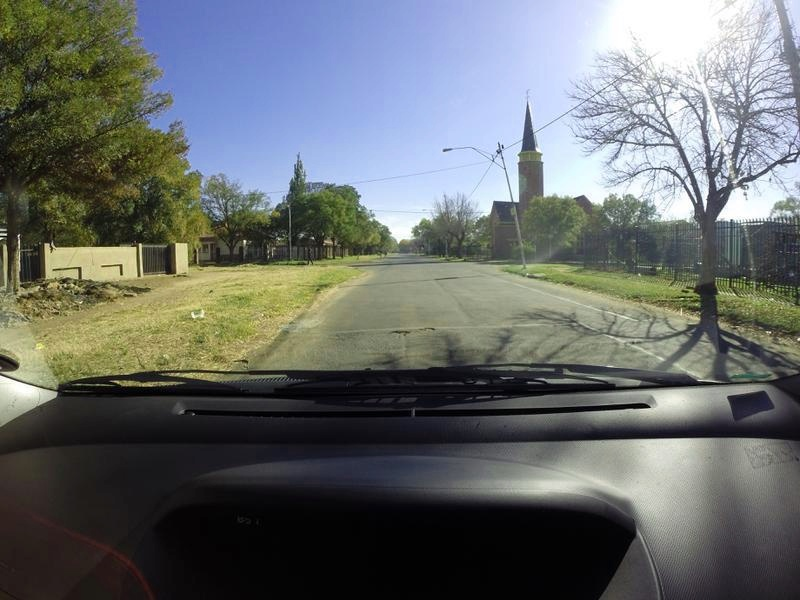pothole: (381, 320, 438, 347)
